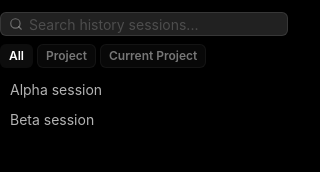
Test case: ChatHistoryPanel › Current Project tag 只保留当前项目会话
Click the button "Current Project" at (153, 56), box x1=100 y1=44 x2=206 y2=68
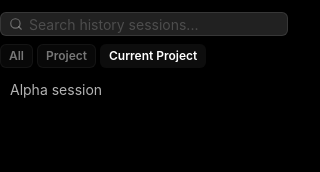
Expected: the text "Alpha session" is shown, x1=10 y1=81 x2=102 y2=98
Now the button "Beta session" is gone
